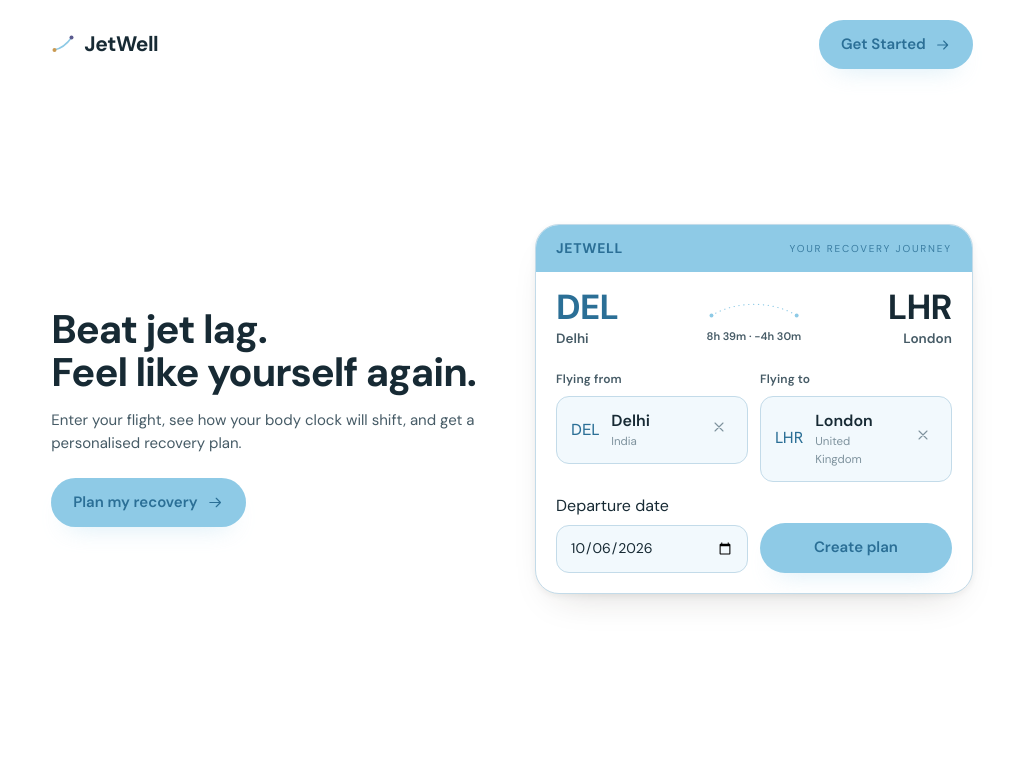
Test: app smoke tests › starts with no flights on a brand-new open
The image size is (1024, 768).
Click the button "Get Started".
click(896, 45)  # box [819, 20, 973, 69]
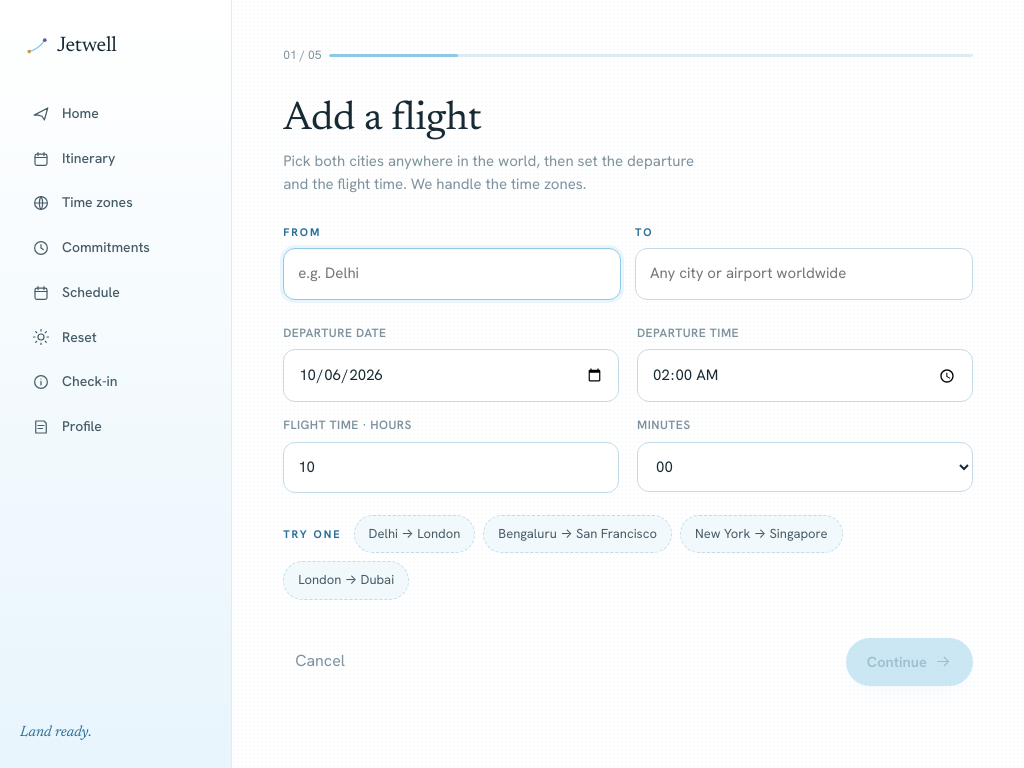
Click the button "Itinerary".
click(116, 159)  # box [20, 138, 211, 180]
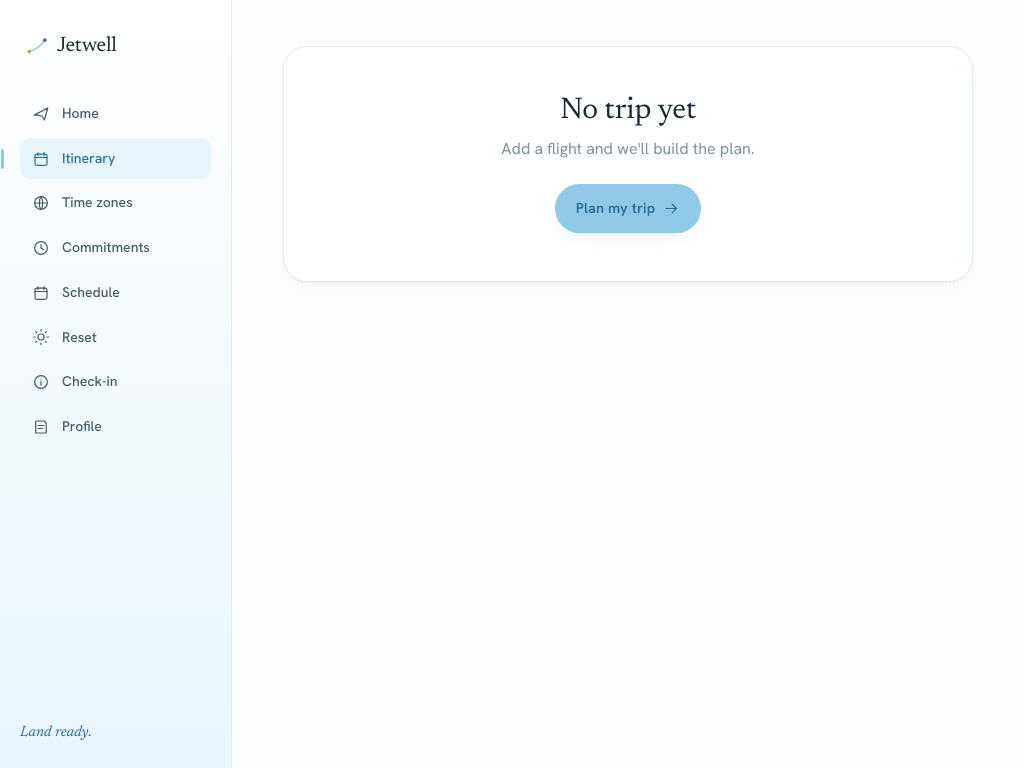
Result: the heading "No trip yet" is shown at [560, 96, 696, 126]
